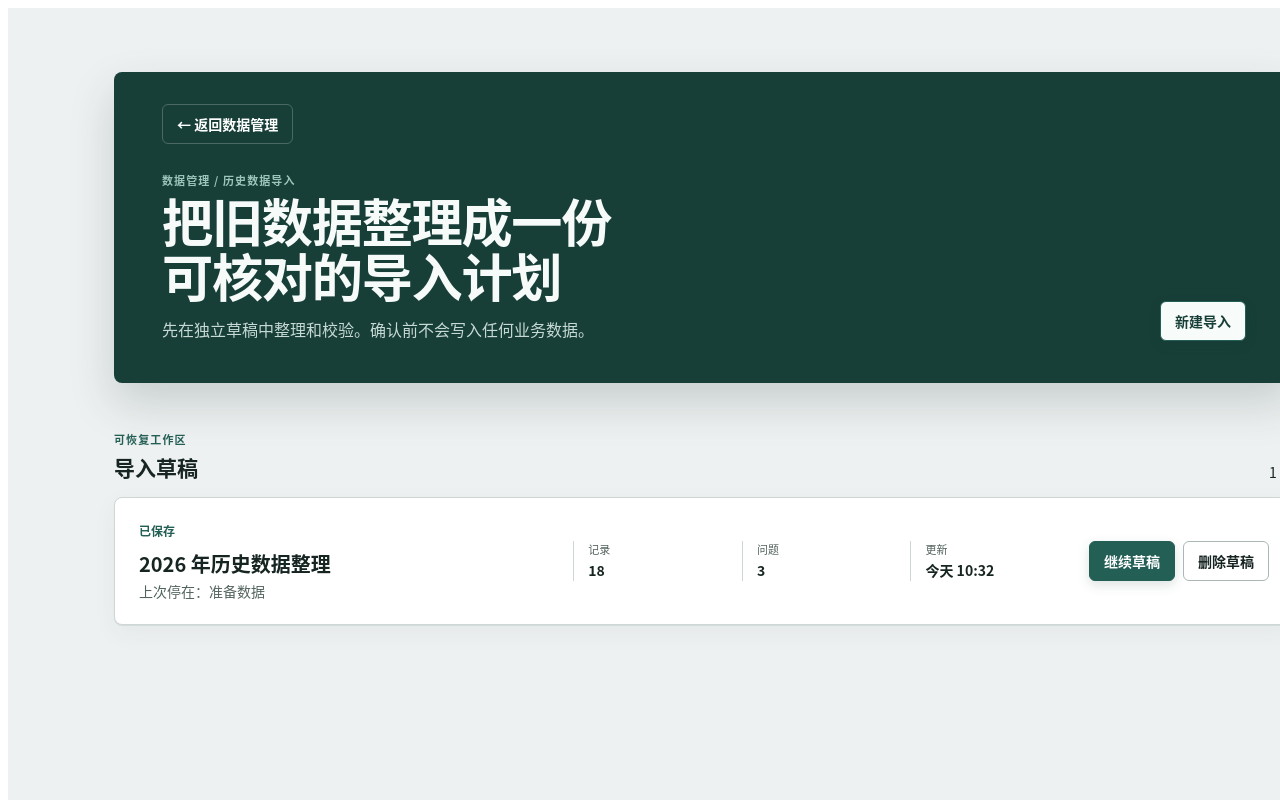
Test case: 最终校验、会话与单一提交 › 会话失效停止操作、提示保留草稿并要求重新校验
Step 1. Click the button "继续草稿" → (1132, 561), box x1=1089 y1=541 x2=1175 y2=581
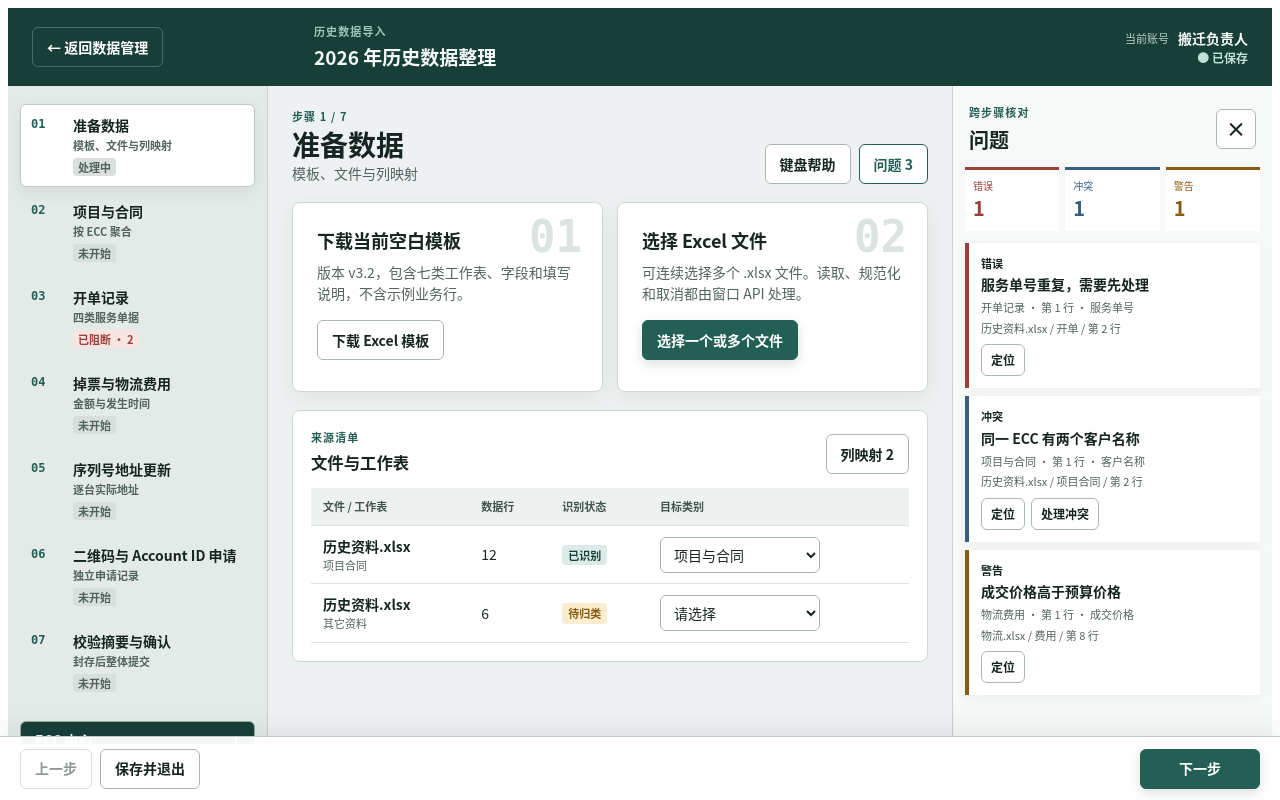
Step 2. Click the button "选择一个或多个文件" → (720, 340), box x1=642 y1=320 x2=798 y2=360
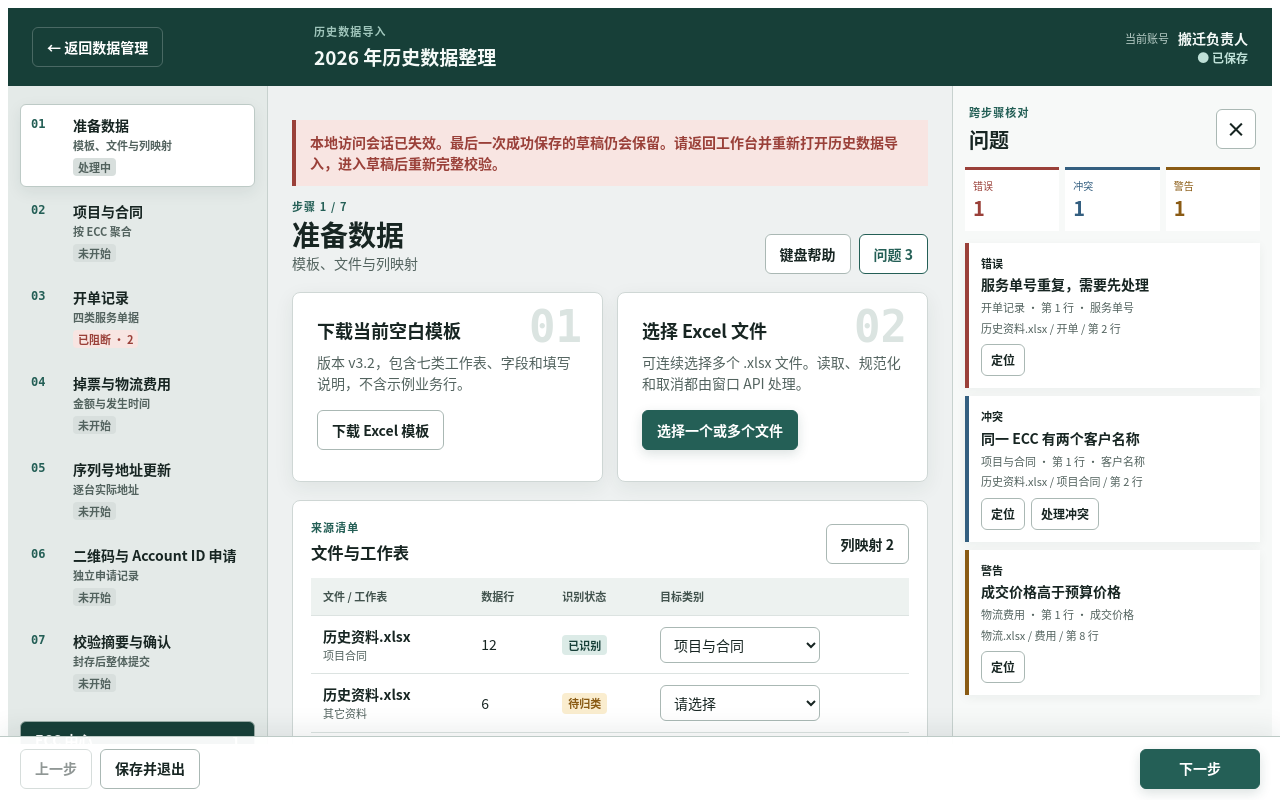
Expected: the message "本地访问会话已失效。最后一次成功保存的草稿仍会保留。请返回工作台并重新打开历史数据导入，进入草稿后重新完整校验。" does not show "重新登录", x1=292 y1=120 x2=928 y2=186
Expected: the message "本地访问会话已失效。最后一次成功保存的草稿仍会保留。请返回工作台并重新打开历史数据导入，进入草稿后重新完整校验。" is shown, x1=292 y1=120 x2=928 y2=186
